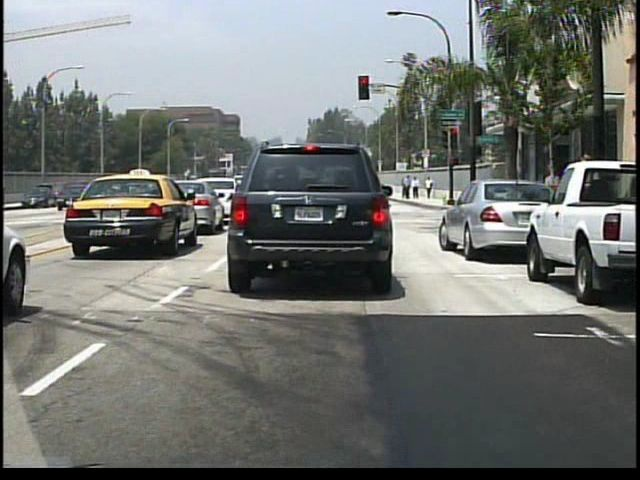person: (542, 166, 563, 222), (425, 174, 435, 201), (403, 174, 412, 200), (412, 175, 421, 200)
